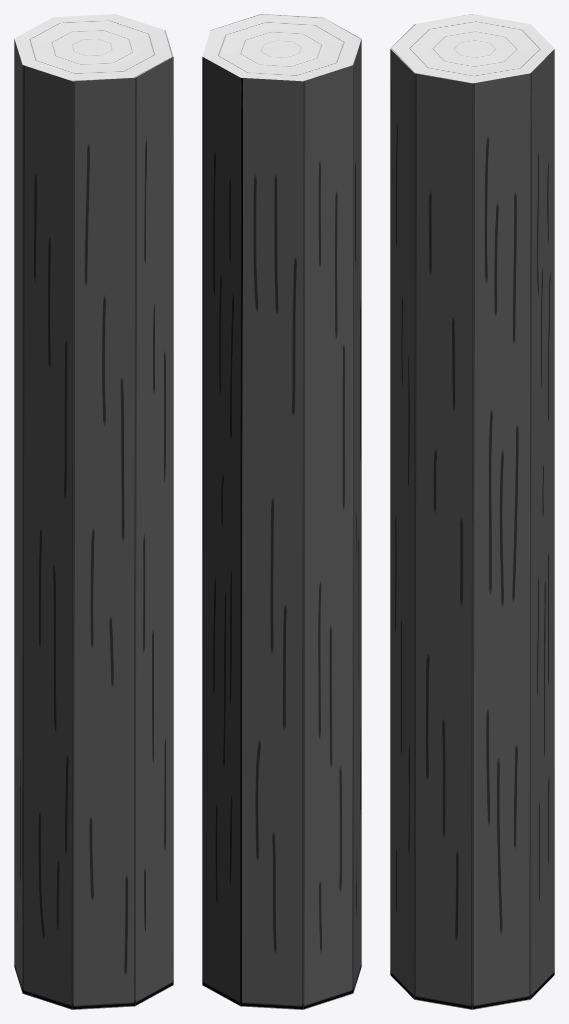
Rendered from WoodTrunk.fbx.
The picture shows the model from 3 angles, left to right: view 1: azimuth 30°, elevation 25°; view 2: azimuth 150°, elevation 25°; view 3: azimuth 270°, elevation 25°; orthographic projection.
Parts seen in each view (by area): view 1: Cylinder; view 2: Cylinder; view 3: Cylinder.
Part boxes in pixels (left/top/right/bottom): Cylinder: left=14, top=14, right=173, bottom=1009; Cylinder: left=202, top=14, right=361, bottom=1009; Cylinder: left=390, top=14, right=554, bottom=1009.
Size of the model in its own units: 55.72 by 346 by 55.72.
